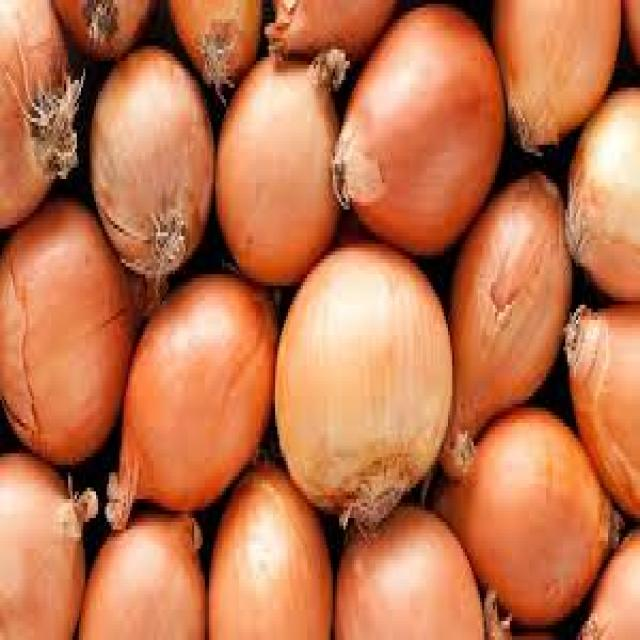Onion: (272, 221, 446, 538), (434, 145, 579, 491), (108, 266, 291, 540), (324, 4, 502, 254), (429, 412, 624, 630), (0, 190, 147, 468), (194, 48, 363, 268), (85, 49, 226, 289), (187, 459, 346, 632), (324, 489, 477, 640), (74, 477, 210, 640), (487, 0, 625, 157), (550, 271, 640, 504), (0, 413, 90, 640), (560, 78, 640, 311)
